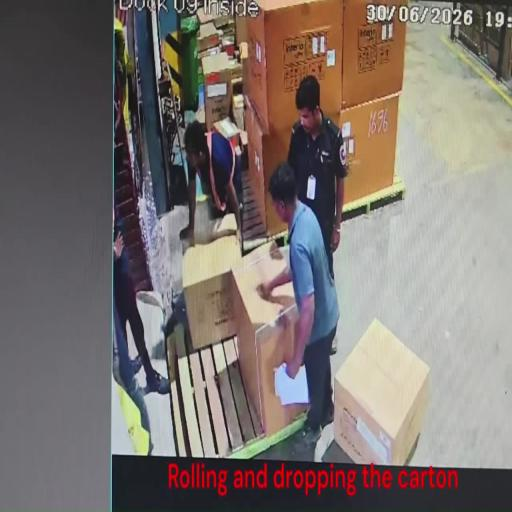carton: (229, 243, 310, 437), (334, 316, 431, 466), (244, 93, 339, 238), (238, 0, 341, 129), (182, 214, 239, 352), (340, 0, 408, 112), (337, 94, 400, 206), (203, 74, 233, 132), (212, 116, 242, 152)
forklift: (113, 3, 198, 458)
pallet: (168, 336, 314, 462), (240, 184, 406, 257)
person: (255, 160, 340, 461), (281, 72, 347, 274), (113, 221, 169, 410), (180, 121, 244, 255)
